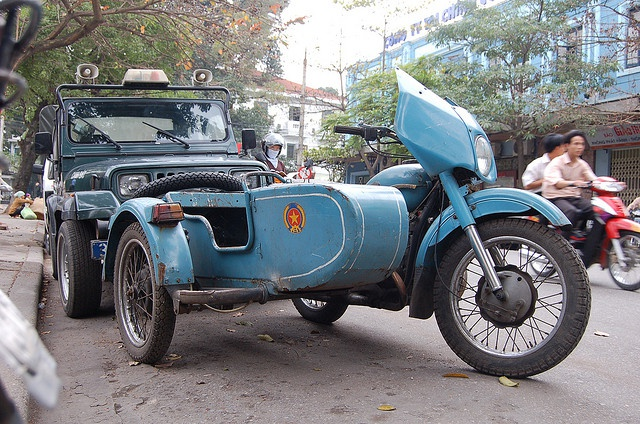non-vehicle: (100, 67, 590, 378), (527, 176, 639, 292)
